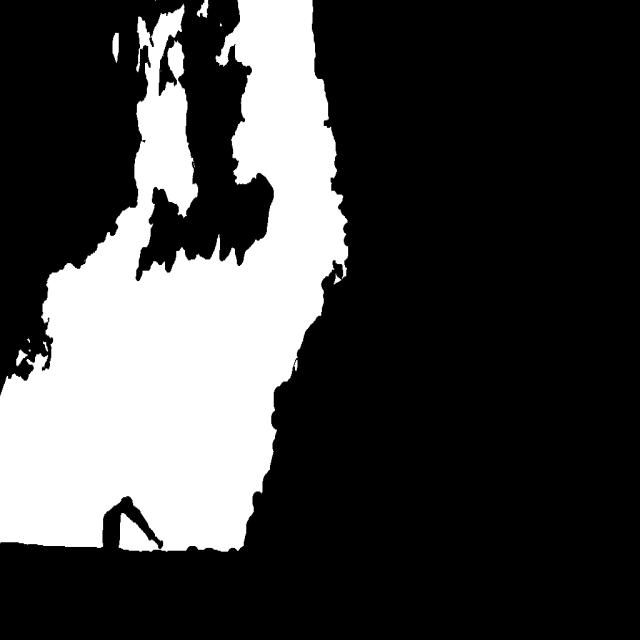fire: (18, 20, 339, 592)
